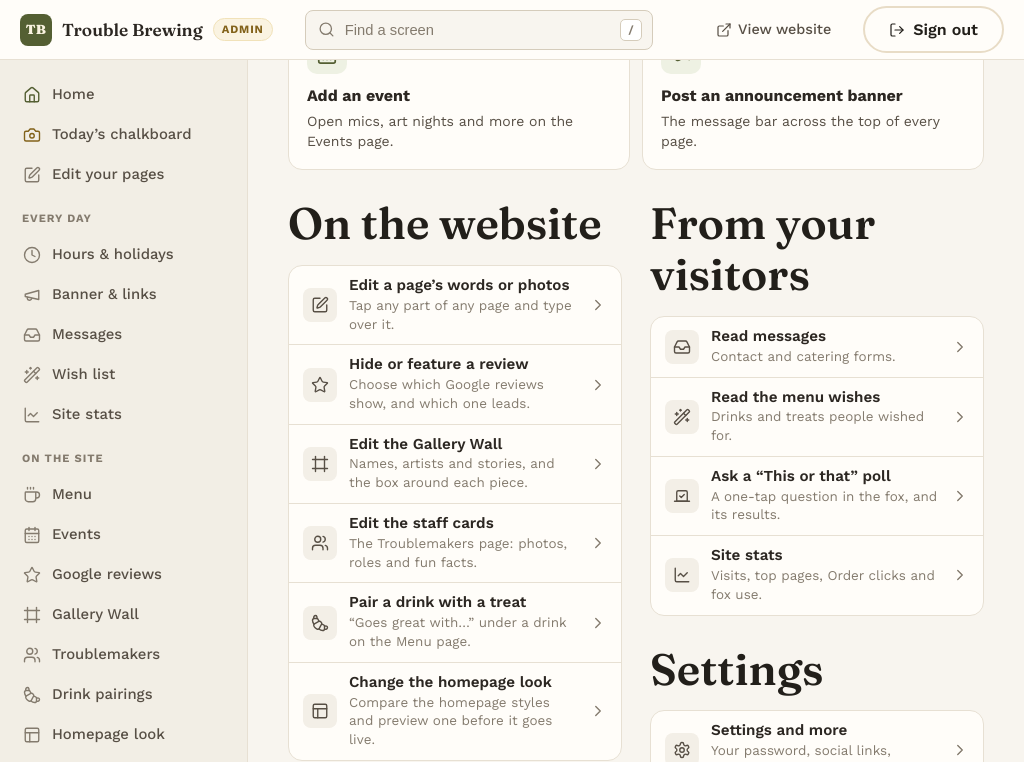
admin home › the "{}" row goes to /admin/reviews and says what it changes
(page scrolled)
Click the link "Hide or feature a review": click(455, 384) [289,345,621,424]
(page scrolled)
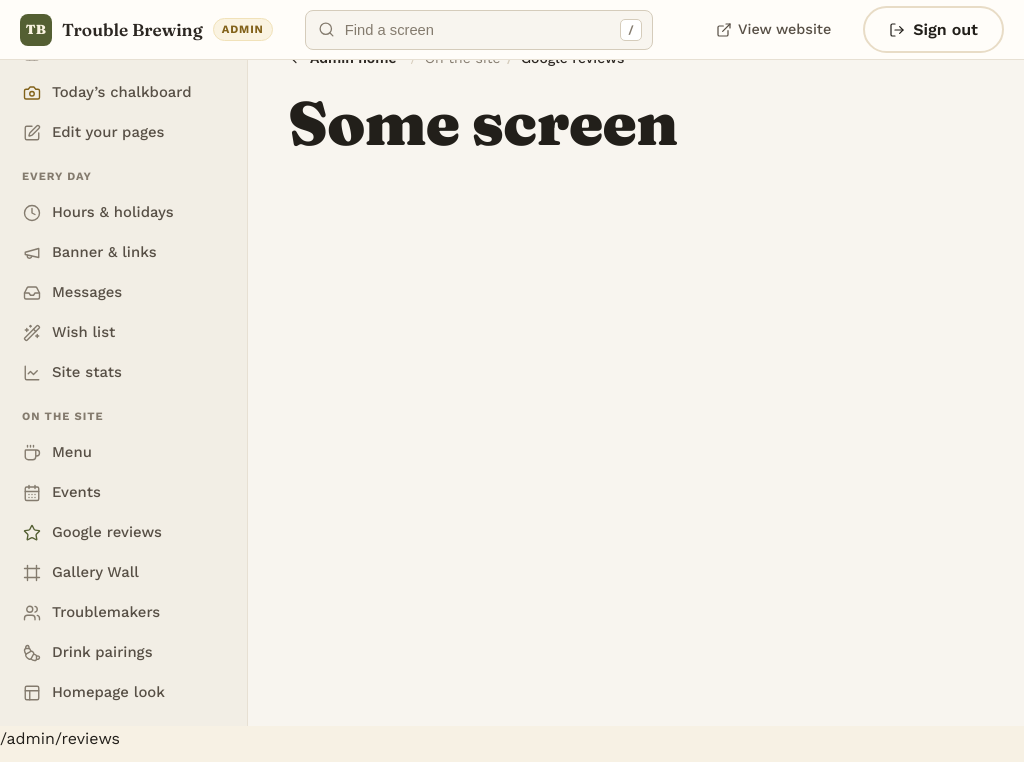
Result: the text with test id "where" reads "/admin/reviews" at [0,729,120,748]
